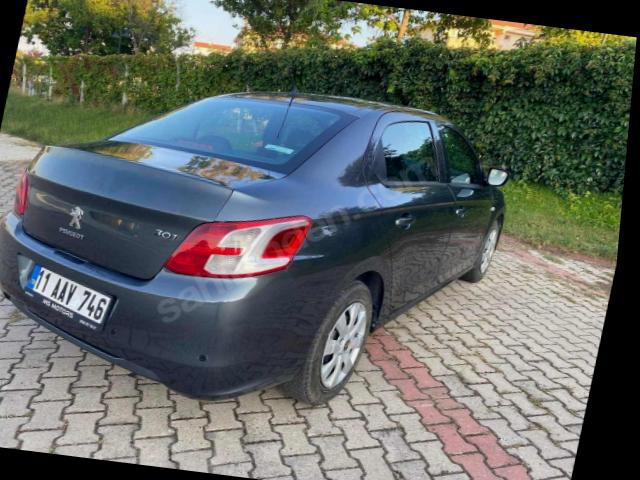plaka: (27, 265, 111, 323)
